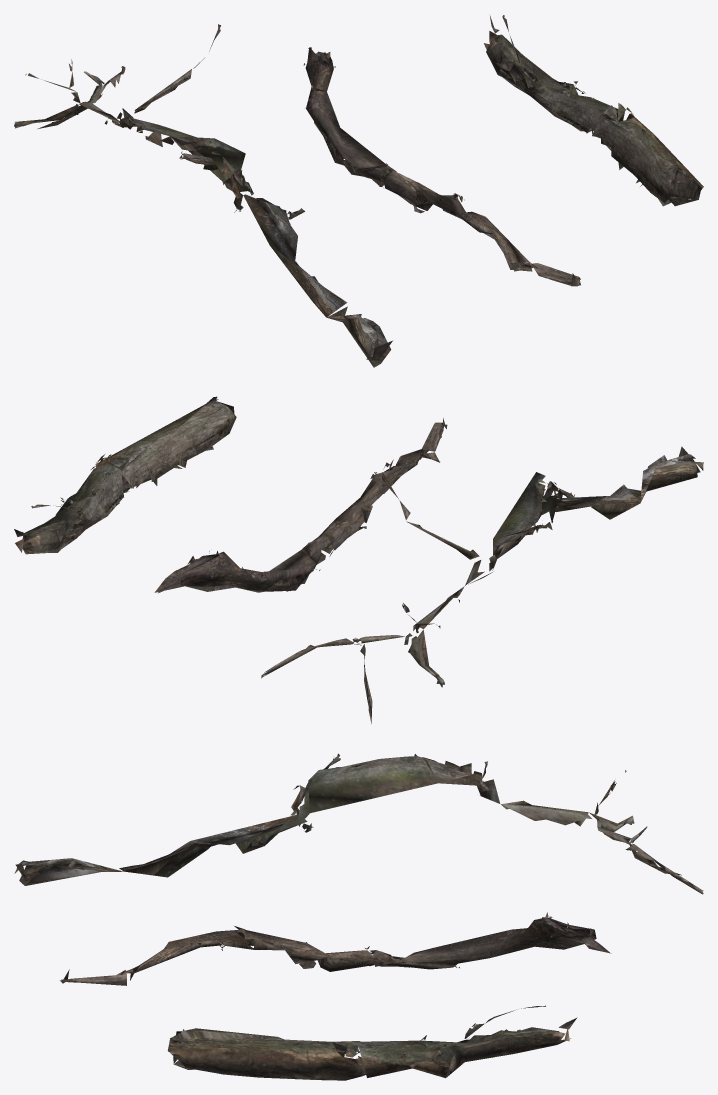
File: ph_dry_branches_medium_01.glb
3 views of the same model, one above another, from view 1: azimuth 30°, elevation 25°; view 2: azimuth 150°, elevation 25°; view 3: azimuth 270°, elevation 25° (orthographic). The views are drawn at different scales.
Visible parts, largest first — view 1: dry_branches_medium_01_a, dry_branches_medium_01_c, dry_branches_medium_01_b; view 2: dry_branches_medium_01_c, dry_branches_medium_01_a, dry_branches_medium_01_b; view 3: dry_branches_medium_01_a, dry_branches_medium_01_c, dry_branches_medium_01_b.
Part boxes in pixels (<box>): dry_branches_medium_01_a: <box>14,24,392,367</box>; dry_branches_medium_01_c: <box>484,15,703,206</box>; dry_branches_medium_01_b: <box>303,47,580,286</box>; dry_branches_medium_01_c: <box>14,396,236,554</box>; dry_branches_medium_01_a: <box>261,446,703,723</box>; dry_branches_medium_01_b: <box>154,418,447,593</box>; dry_branches_medium_01_a: <box>14,753,703,894</box>; dry_branches_medium_01_c: <box>167,1005,577,1080</box>; dry_branches_medium_01_b: <box>60,912,611,985</box>.
Size of the model in its own units: 1.06 by 0.3268 by 1.3.
1 material, 1 textured.
